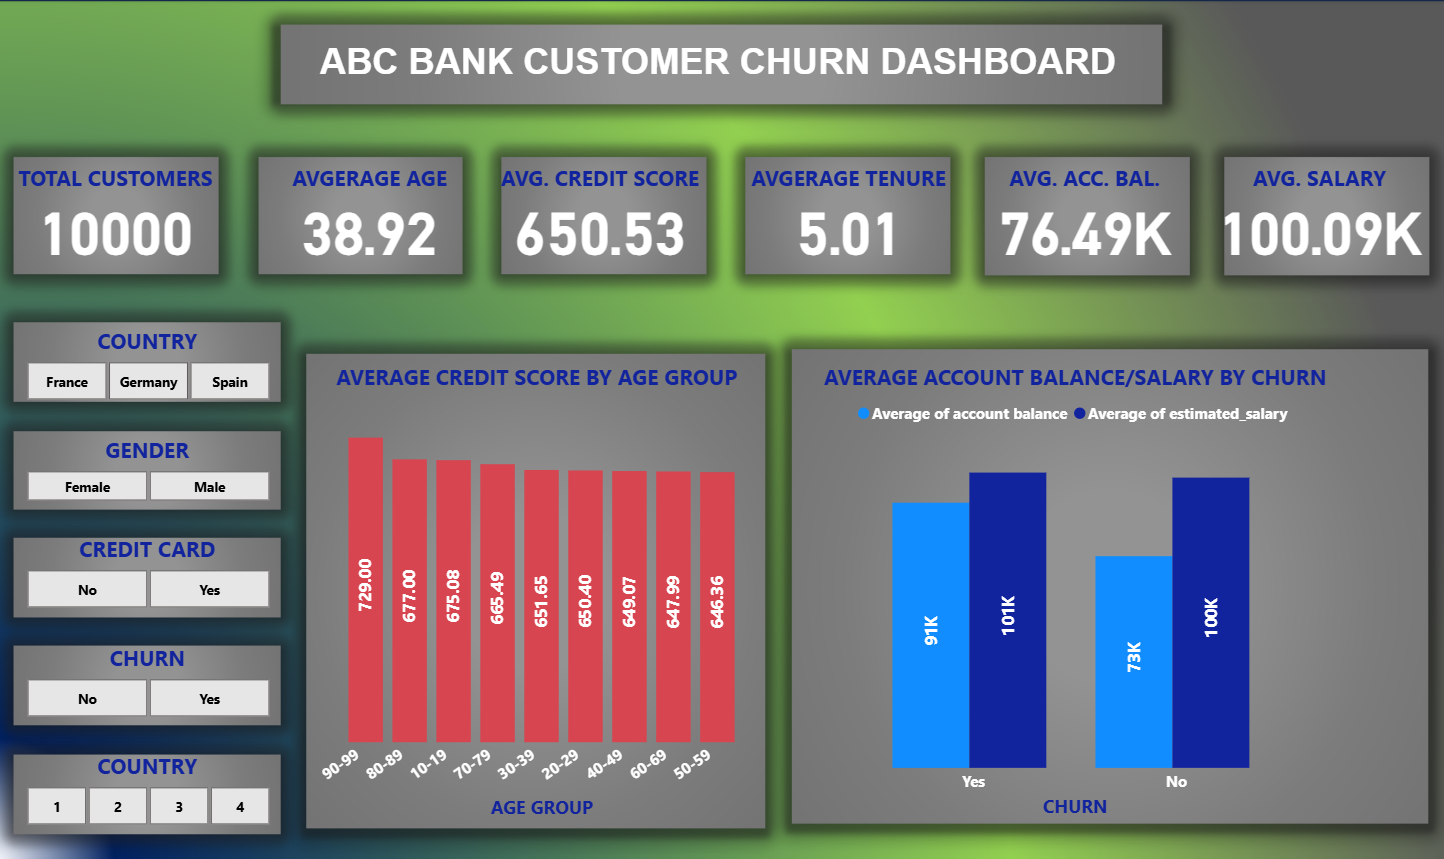

What the dashboard file says about the page in this screenshot:
{"tool":"powerbi","page":{"name":"Page 1","canvas":[1280,760],"ordinal":0},"visuals":[{"type":"textbox","box":[256,32,760,56],"z":0},{"type":"card","title":"TOTAL CUSTOMERS","fields":{"Values":["CountNonNull(Bank Customer Churn Prediction.customer_id)"]},"box":[8,144,192,88],"z":1000},{"type":"slicer","title":"COUNTRY","fields":{"Values":["Bank Customer Churn Prediction.country"]},"box":[0,288,264,72],"z":2000},{"type":"slicer","title":"GENDER","fields":{"Values":["Bank Customer Churn Prediction.gender"]},"box":[0,384,264,64],"z":3000},{"type":"slicer","title":"CREDIT CARD","fields":{"Values":["Bank Customer Churn Prediction.credit_card"]},"box":[0,472,264,72],"z":4000},{"type":"slicer","title":"CHURN","fields":{"Values":["Bank Customer Churn Prediction.churn"]},"box":[0,568,264,72],"z":5000},{"type":"slicer","title":"COUNTRY","fields":{"Values":["Bank Customer Churn Prediction.number of products"]},"box":[0,664,264,72],"z":6000},{"type":"card","title":"AVGERAGE AGE ","fields":{"Values":["Avg(Bank Customer Churn Prediction.age)"]},"box":[232,144,192,88],"z":7000},{"type":"card","title":"AVG. CREDIT SCORE","fields":{"Values":["Avg(Bank Customer Churn Prediction.credit_score)"]},"box":[432,144,200,88],"z":8000},{"type":"card","title":"AVGERAGE TENURE ","fields":{"Values":["Avg(Bank Customer Churn Prediction.tenure)"]},"box":[656,144,192,88],"z":9000},{"type":"card","title":"AVG. ACC. BAL.","fields":{"Values":["Avg(Bank Customer Churn Prediction.account balance)"]},"box":[864,144,192,88],"z":10000},{"type":"card","title":"AVG. SALARY","fields":{"Values":["Avg(Bank Customer Churn Prediction.estimated_salary)"]},"box":[1072,144,192,88],"z":11000},{"type":"clusteredColumnChart","title":"AVERAGE CREDIT SCORE BY AGE GROUP","fields":{"Category":["Bank Customer Churn Prediction.age_group"],"Y":["Avg(Bank Customer Churn Prediction.credit_score)"]},"box":[280,320,392,408],"z":12000},{"type":"clusteredColumnChart","title":"AVERAGE ACCOUNT BALANCE/SALARY BY CHURN ","fields":{"Y":["Avg(Bank Customer Churn Prediction.account balance)","Avg(Bank Customer Churn Prediction.estimated_salary)"],"Category":["Bank Customer Churn Prediction.churn"]},"box":[624,320,656,408],"z":12001}]}

Visuals, with their boxes in screenshot pixels (x1, y1, x2, y2), scaled from the page's 1280x760 canvas onto the 1444x859 screenshot:
textbox: region(289, 36, 1146, 99)
"TOTAL CUSTOMERS" card: region(9, 163, 226, 262)
"COUNTRY" slicer: region(0, 326, 298, 407)
"GENDER" slicer: region(0, 434, 298, 506)
"CREDIT CARD" slicer: region(0, 533, 298, 615)
"CHURN" slicer: region(0, 642, 298, 723)
"COUNTRY" slicer: region(0, 750, 298, 832)
"AVGERAGE AGE " card: region(262, 163, 478, 262)
"AVG. CREDIT SCORE" card: region(487, 163, 713, 262)
"AVGERAGE TENURE " card: region(740, 163, 957, 262)
"AVG. ACC. BAL." card: region(975, 163, 1191, 262)
"AVG. SALARY" card: region(1209, 163, 1426, 262)
"AVERAGE CREDIT SCORE BY AGE GROUP" clusteredColumnChart: region(316, 362, 758, 823)
"AVERAGE ACCOUNT BALANCE/SALARY BY CHURN " clusteredColumnChart: region(704, 362, 1443, 823)
